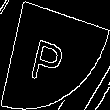P_N: (34, 25, 76, 85)
